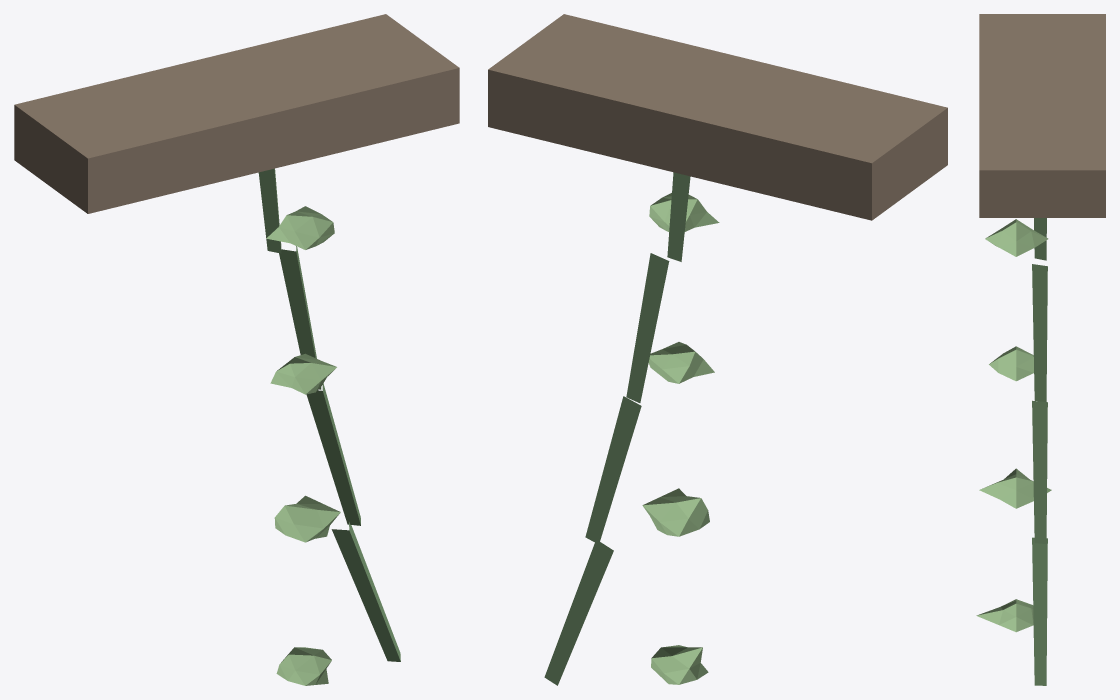
The model's file is vine_v01.glb.
3 views of the same model, side by side, from view 1: azimuth 30°, elevation 25°; view 2: azimuth 150°, elevation 25°; view 3: azimuth 270°, elevation 25° (orthographic). The views are drawn at different scales.
Parts seen in each view (by area): view 1: lod0; view 2: lod0; view 3: lod0.
Part boxes in pixels (<box>): lod0: <box>14,14,459,685</box>; lod0: <box>488,14,947,685</box>; lod0: <box>976,14,1105,685</box>.
Size of what is drawn, in the model's own units: 0.7 by 1.1 by 0.2461.
